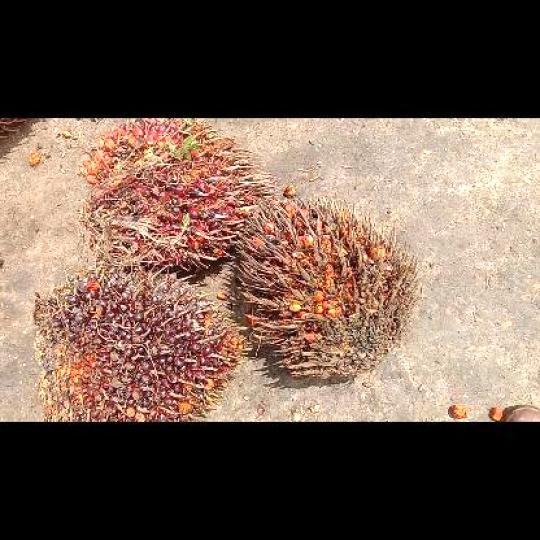kurang masak: (31, 273, 242, 420)
masak: (78, 118, 274, 274)
terlalu masak: (231, 197, 418, 382)
